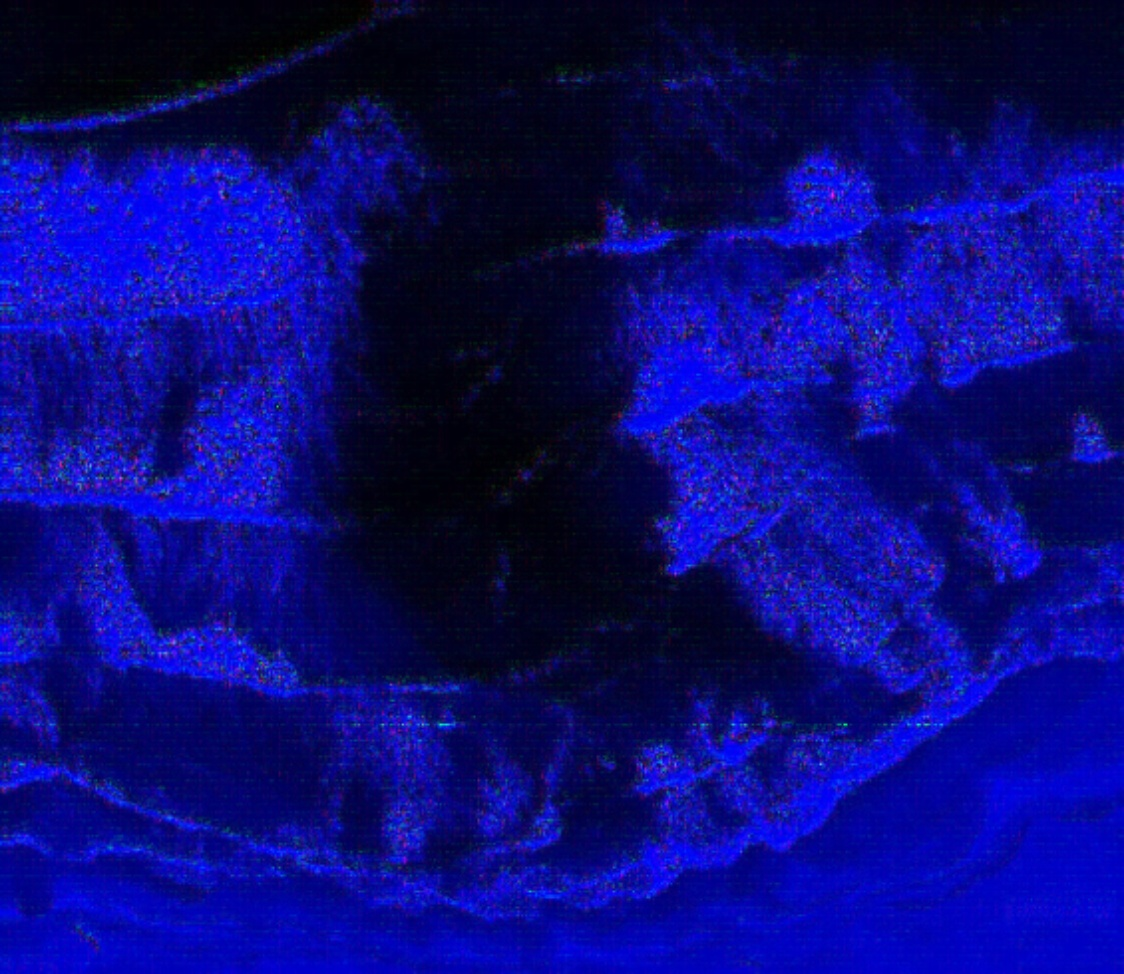rip_current: (303, 175, 773, 790)
